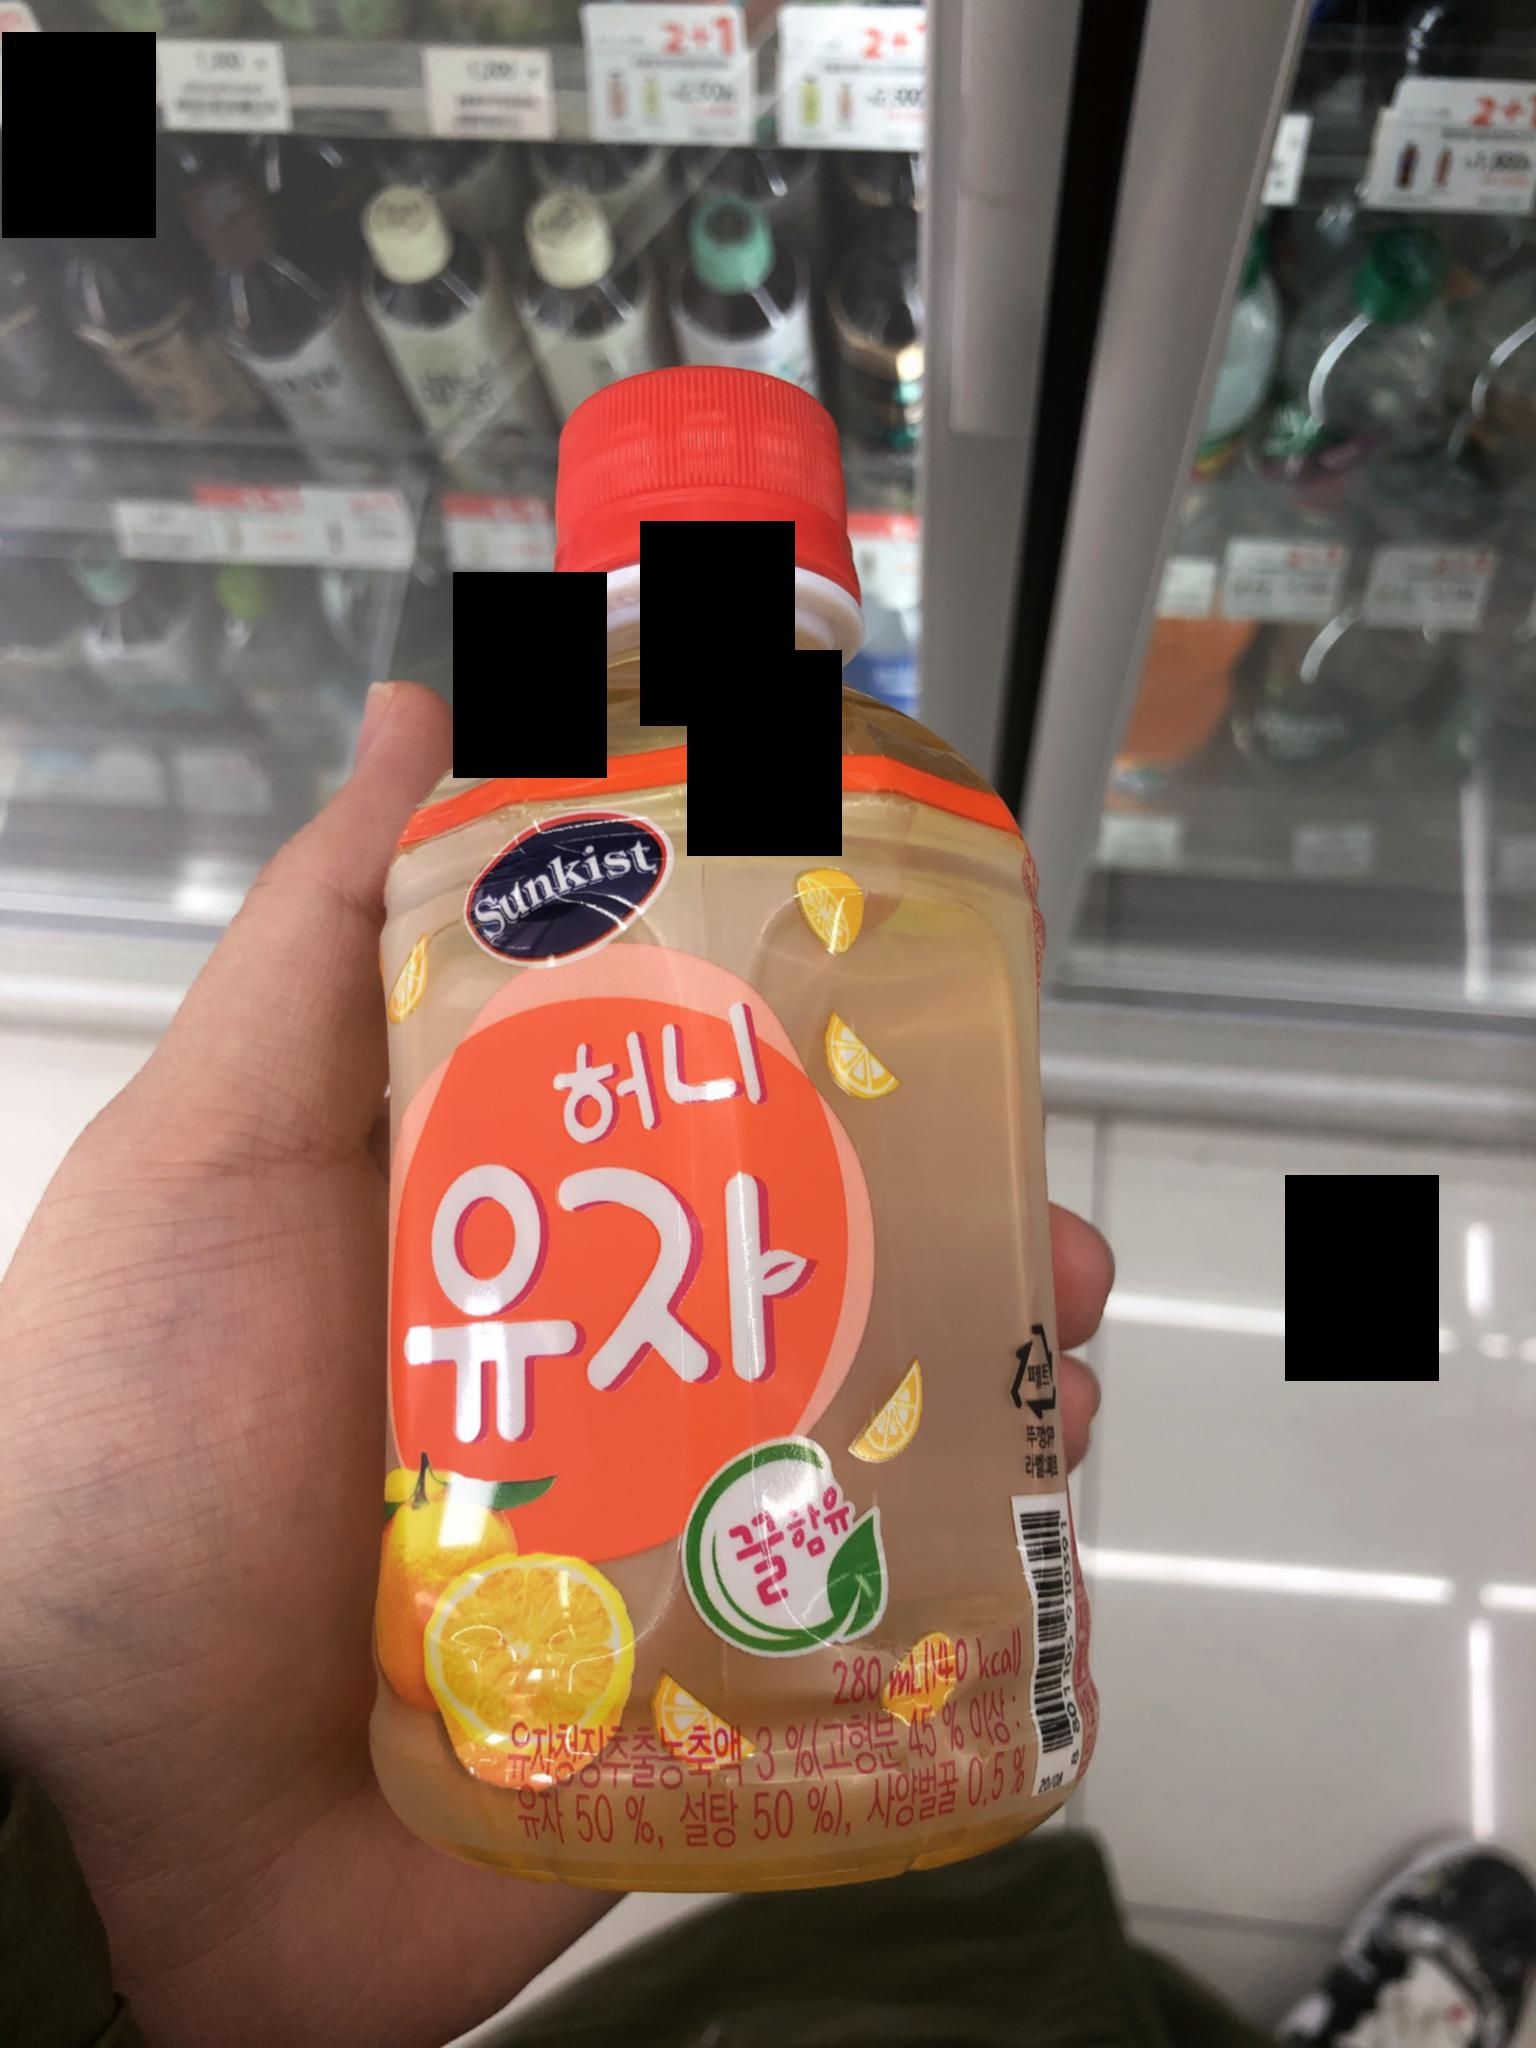honeyyuja: (302, 355, 1189, 1908)
